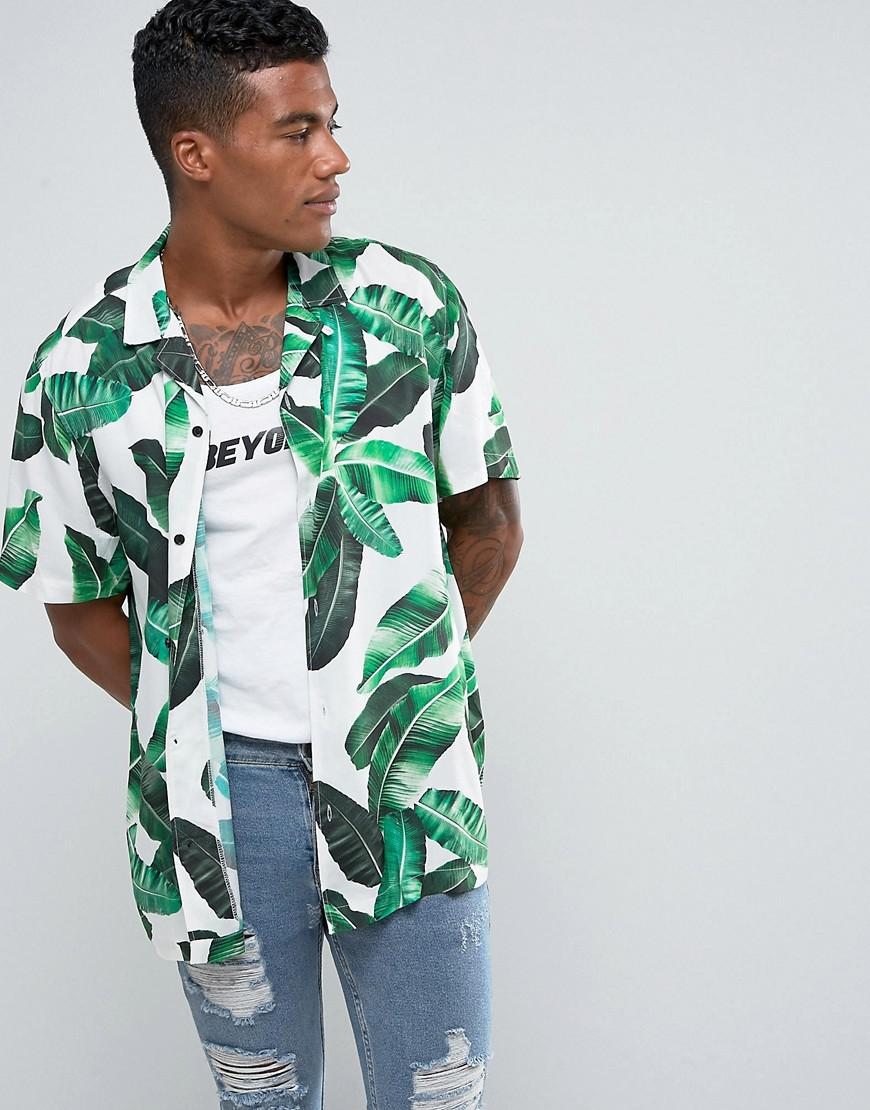teeshirt: (1, 210, 551, 935)
